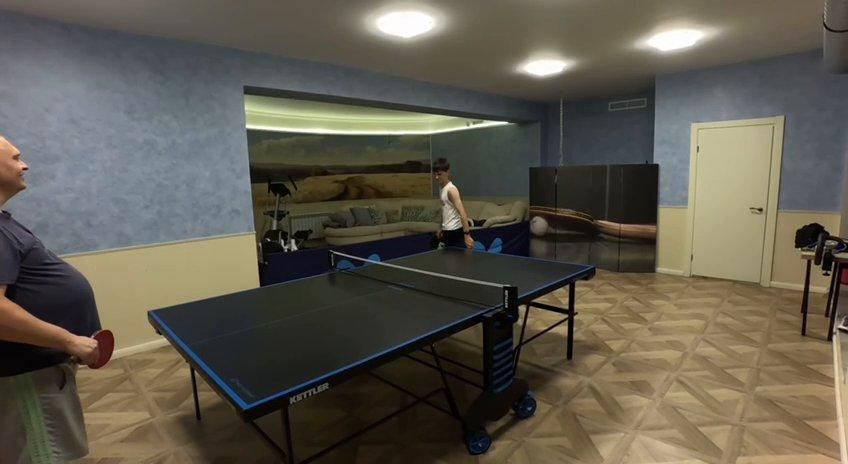Net: (329, 251, 518, 318)
Player1: (432, 158, 471, 247)
Player2: (0, 136, 101, 463)
Table: (148, 252, 591, 409)
